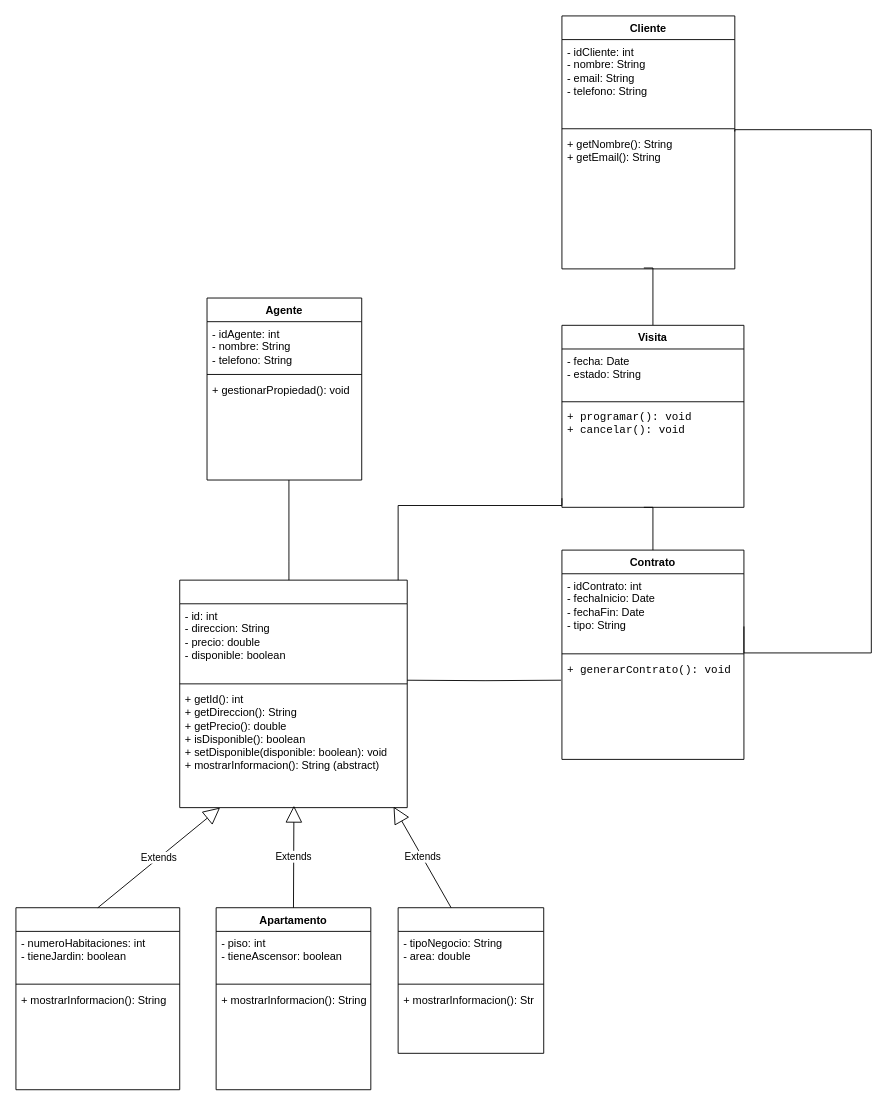
Some shapes in this 888 by 1108 pixel diagram are drawn without their labels. The shapes that lost their labels are listed below. From the top down, each one's box as (x1, y1, x2, y2) in pixels, then its label:
(179, 579, 407, 808): Propiedad <<abstract>>
(15, 907, 180, 1090): Casa
(397, 907, 544, 1053): Local
